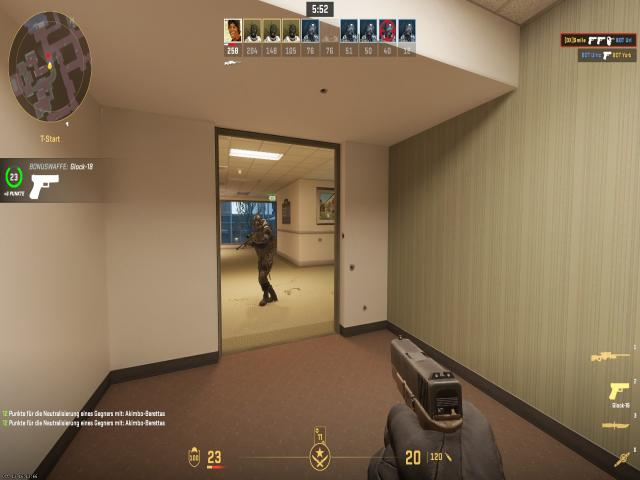CT: (253, 216, 275, 302)
CT-Head: (254, 215, 262, 229)
